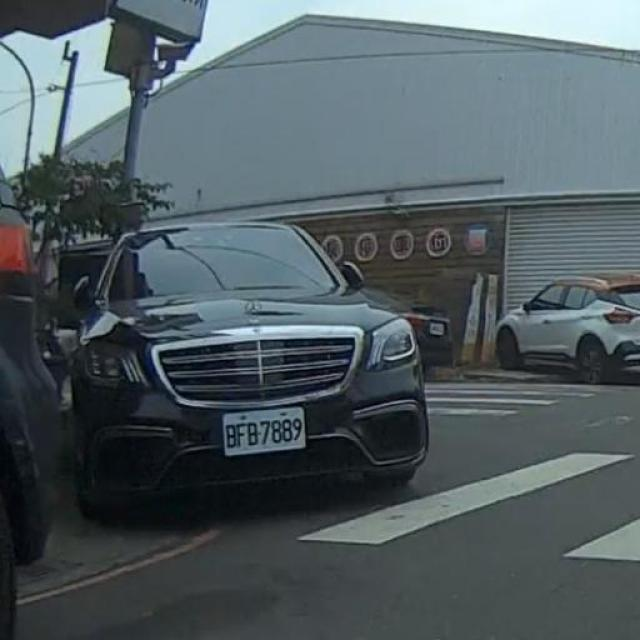illegalparking: (71, 222, 426, 516), (496, 272, 639, 382)
